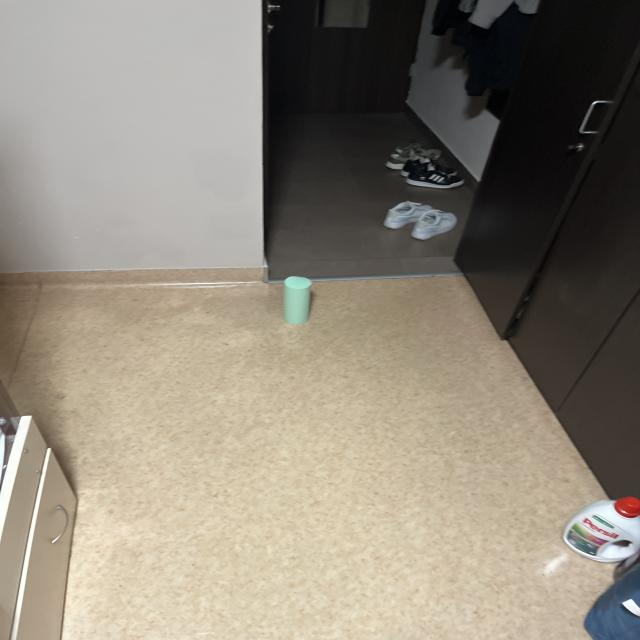meta: (284, 276, 311, 324)
